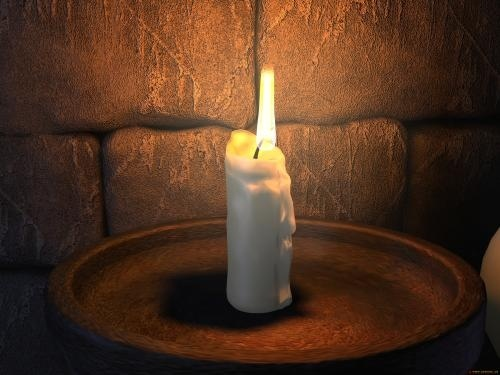fire: (254, 63, 278, 149)
